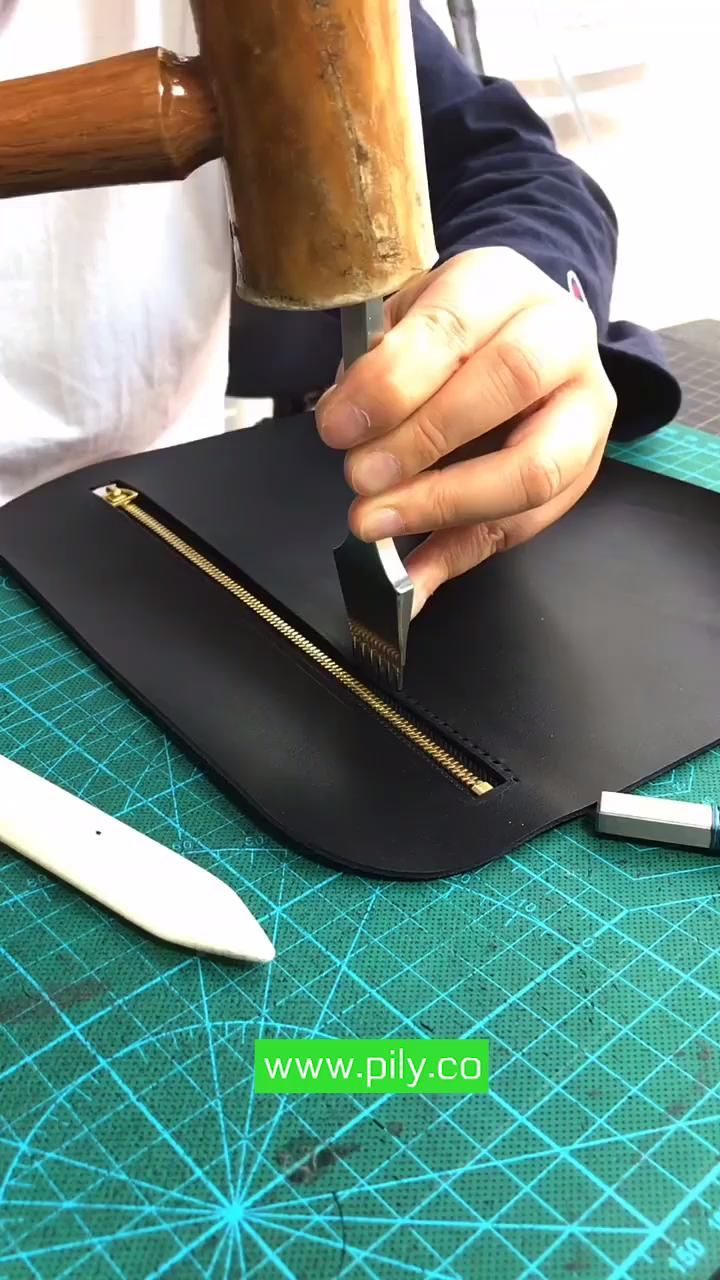cuero: (5, 396, 720, 881)
